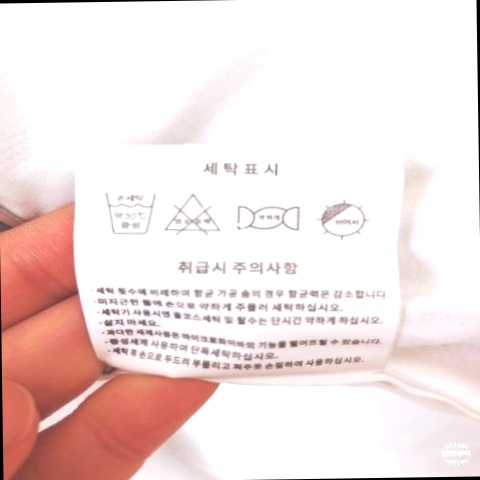dry_flat_in_shade: (316, 198, 371, 241)
hand_wash: (103, 188, 162, 238)
non_chlorine_bleach: (162, 187, 224, 238)
wring: (234, 203, 303, 233)
